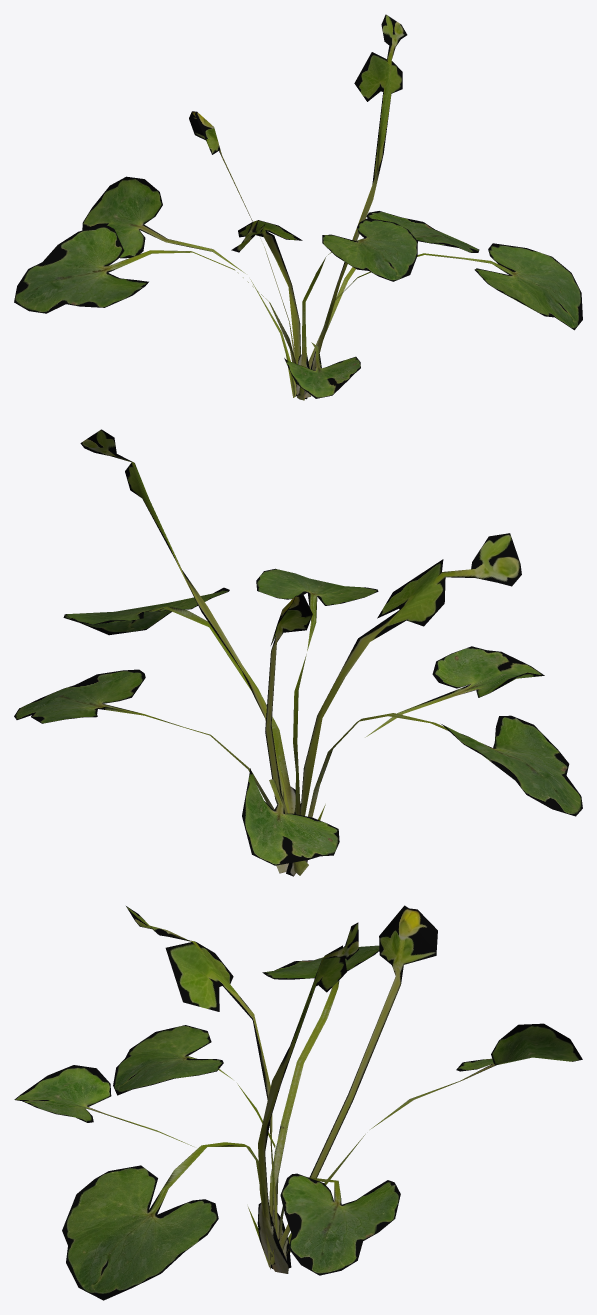
The model's file is flower_yellow.glb.
3 views of the same model, one above another, from view 1: azimuth 30°, elevation 25°; view 2: azimuth 150°, elevation 25°; view 3: azimuth 270°, elevation 25° (orthographic). The views are drawn at different scales.
Parts seen in each view (by area): view 1: celandine_01_a_LOD0; view 2: celandine_01_a_LOD0; view 3: celandine_01_a_LOD0.
Boxes of the visible parts, x1,y1,x2,y2 form: celandine_01_a_LOD0: [14, 14, 582, 400]; celandine_01_a_LOD0: [14, 429, 582, 876]; celandine_01_a_LOD0: [14, 905, 582, 1300].
Bounding box in the file's own units: 0.2757 × 0.1859 × 0.2282.
Materials: 1 (1 with a texture image).
